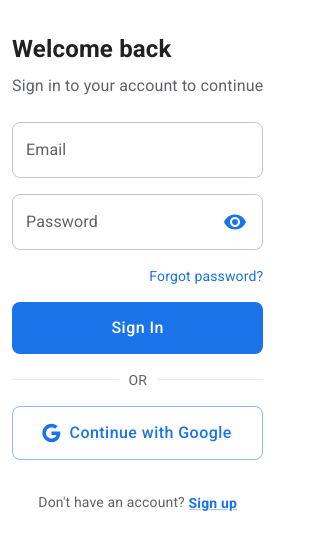
Test: LoginForm › shows validation error for invalid email
Type "invalid-email" into the field labelled "Email" at (138, 150), box [12,122,263,178]
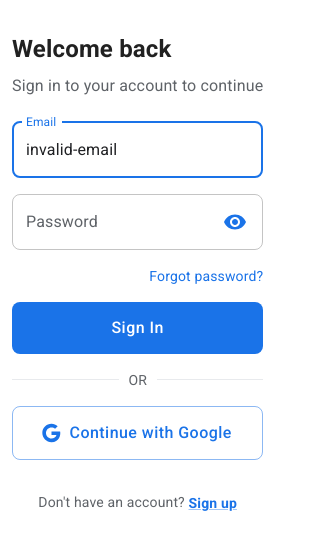
Click the button "Sign In" at (138, 328), box [12,302,263,354]
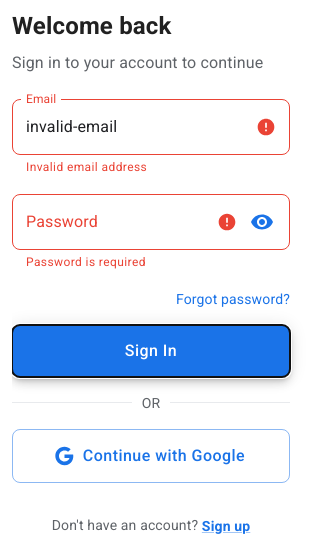
Check: the text "Invalid email address" is shown, box [26,160,147,174]
